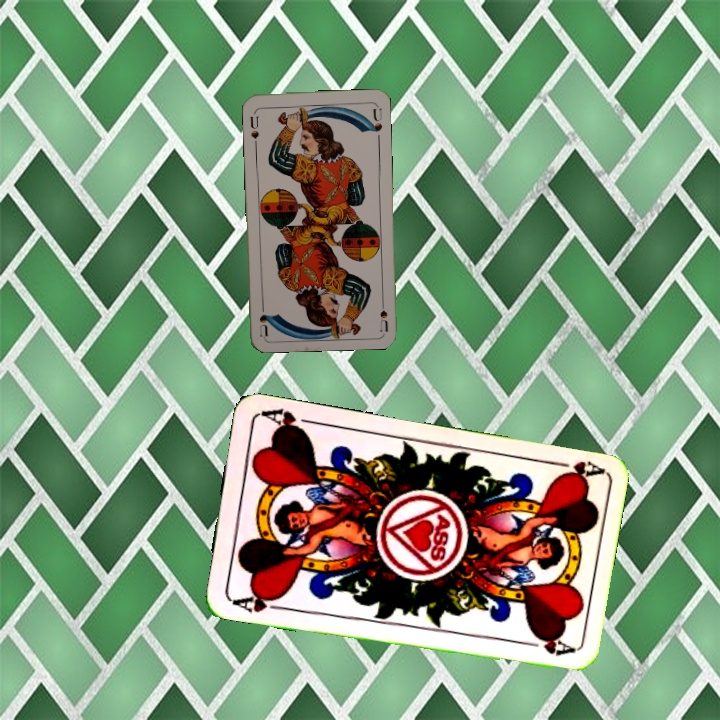HA: (544, 456, 604, 484), (227, 588, 286, 615)
SU: (246, 107, 261, 148), (376, 292, 391, 333)
